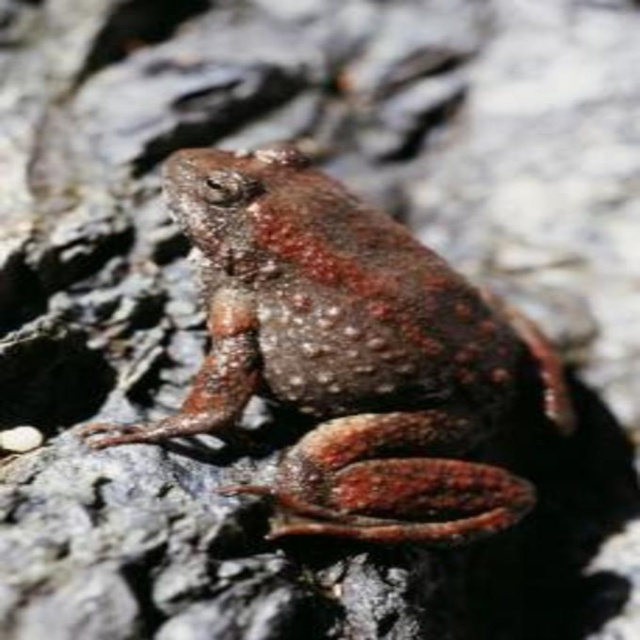Frog: (75, 143, 584, 544)
